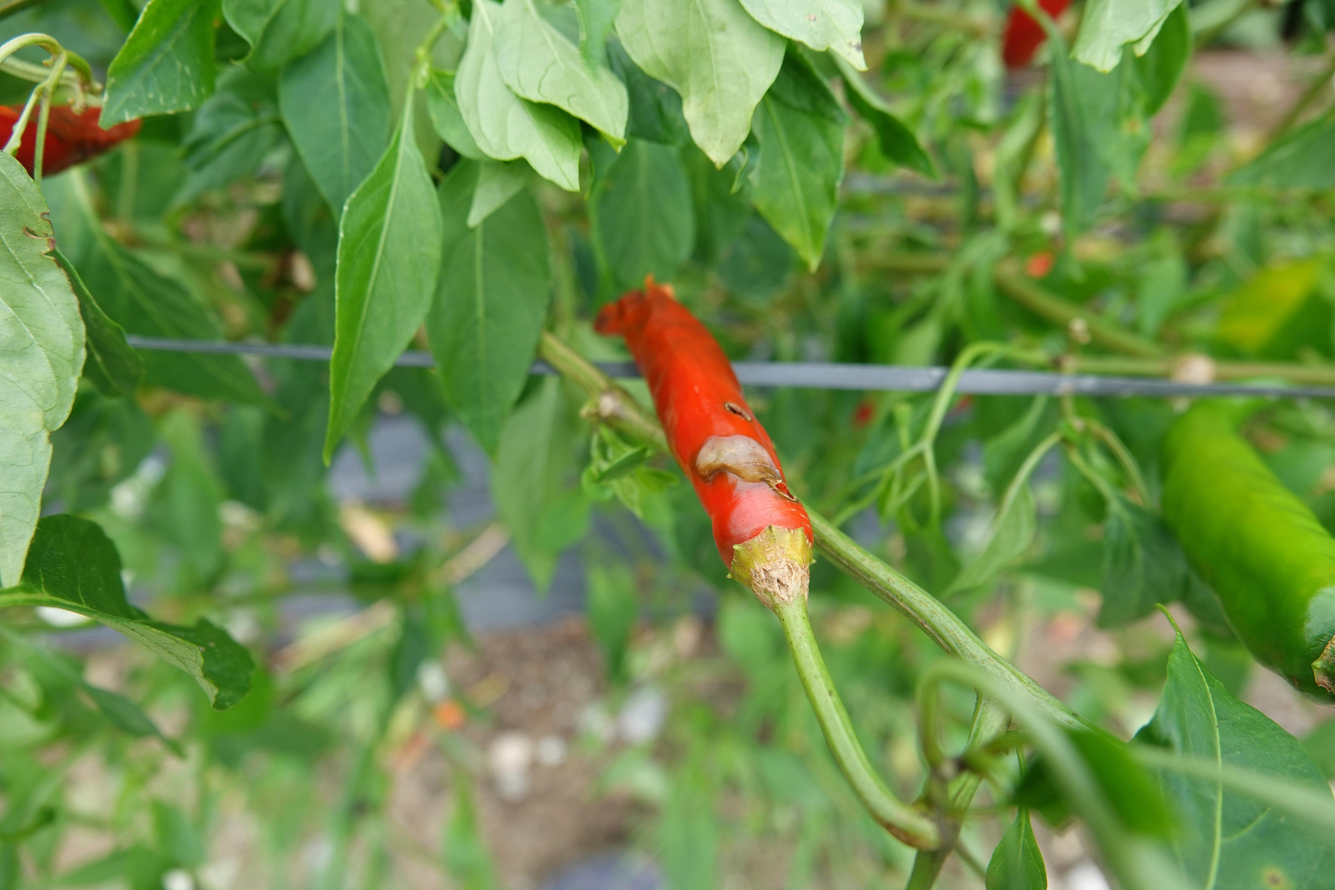Buah Cabai Sehat: (1144, 379, 1335, 688)
Busuk Buah Antraknosa: (592, 270, 819, 606)
